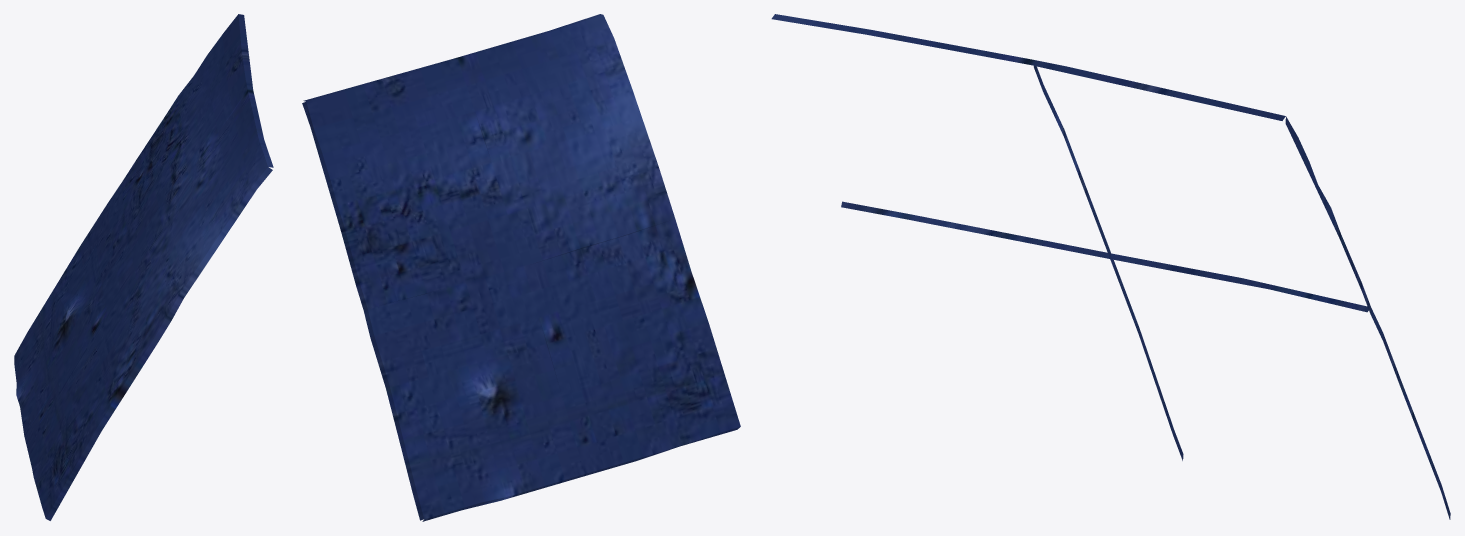
3 renders of one model, left to right at view 1: azimuth 30°, elevation 25°; view 2: azimuth 150°, elevation 25°; view 3: azimuth 270°, elevation 25°, orthographic. The views are drawn at different scales.
Size of the model in its own units: 528378 by 544417 by 627594.
1 material, 1 textured.
